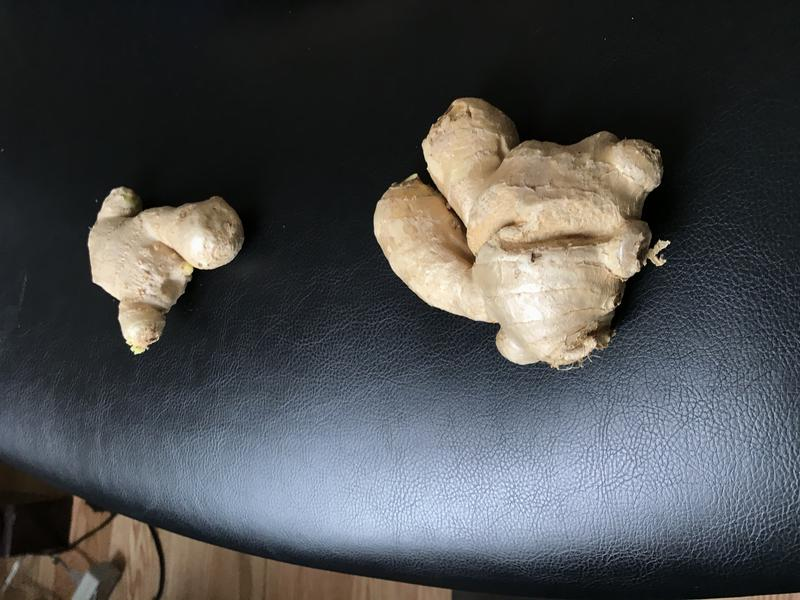ginger: (368, 86, 679, 383), (75, 175, 251, 357)
